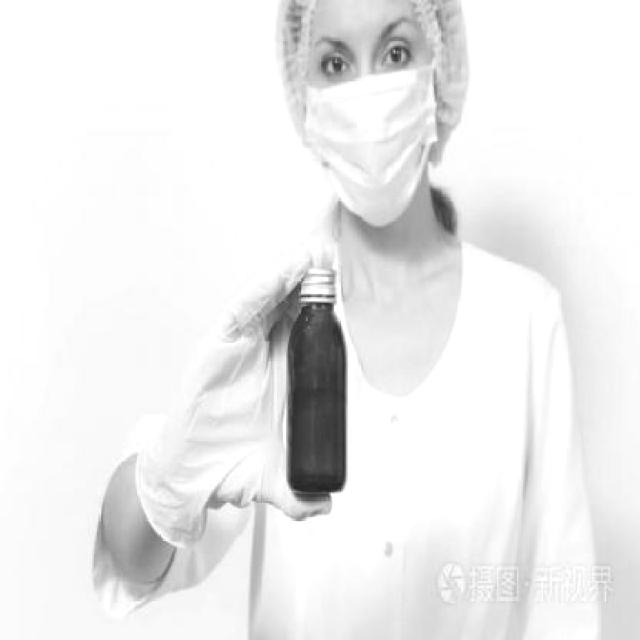face_mask: (298, 11, 434, 215)
hand_glove: (156, 240, 336, 526)
person: (55, 0, 634, 640)
